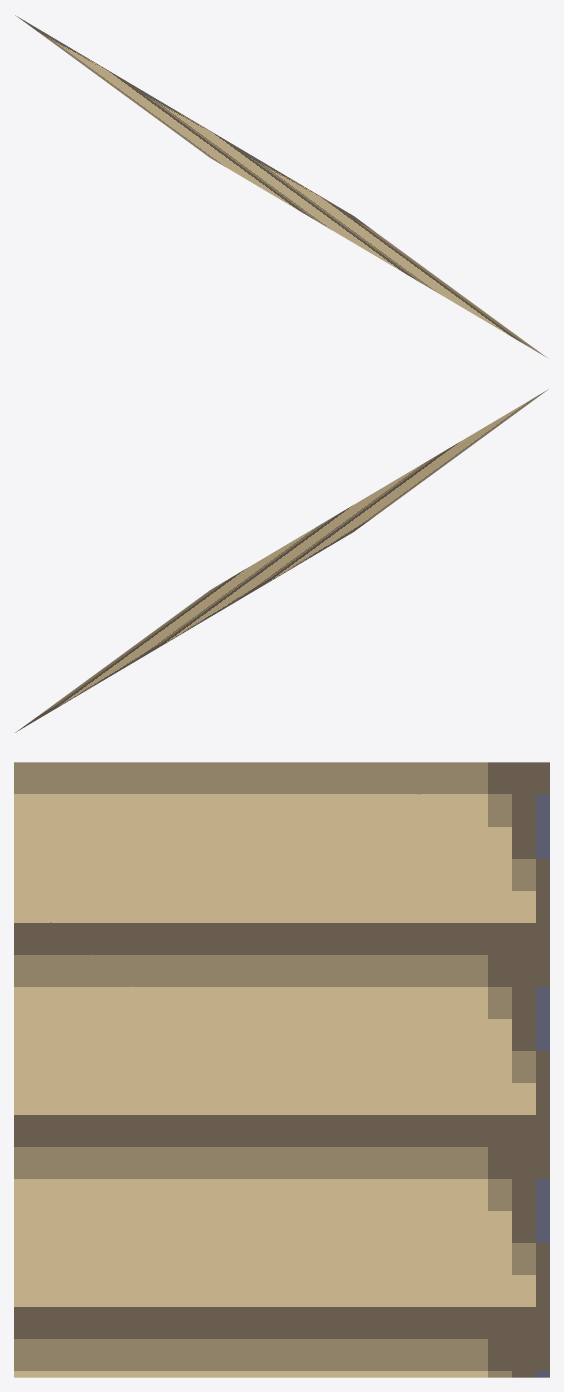
The picture shows the model from 3 angles, top to bottom: view 1: azimuth 30°, elevation 25°; view 2: azimuth 150°, elevation 25°; view 3: azimuth 270°, elevation 25°; orthographic projection. The views are drawn at different scales.
Bounding box in the file's own units: 1 × 0.8 × 1.
1 material, 1 textured.
